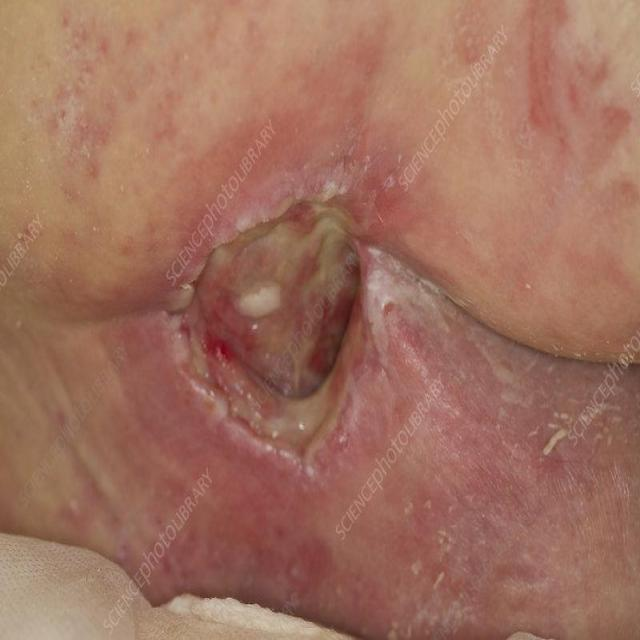stage-1: (526, 0, 637, 153)
stage-4: (182, 203, 361, 453)
